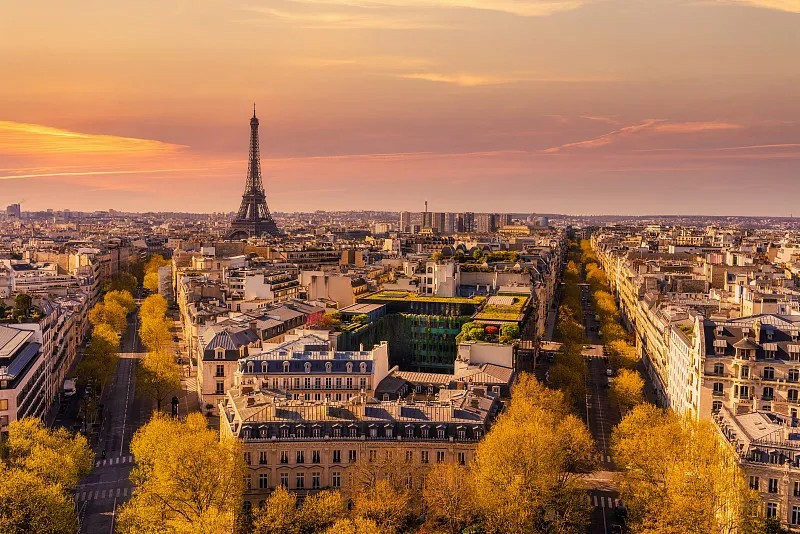Eiffel: (222, 100, 282, 241)
